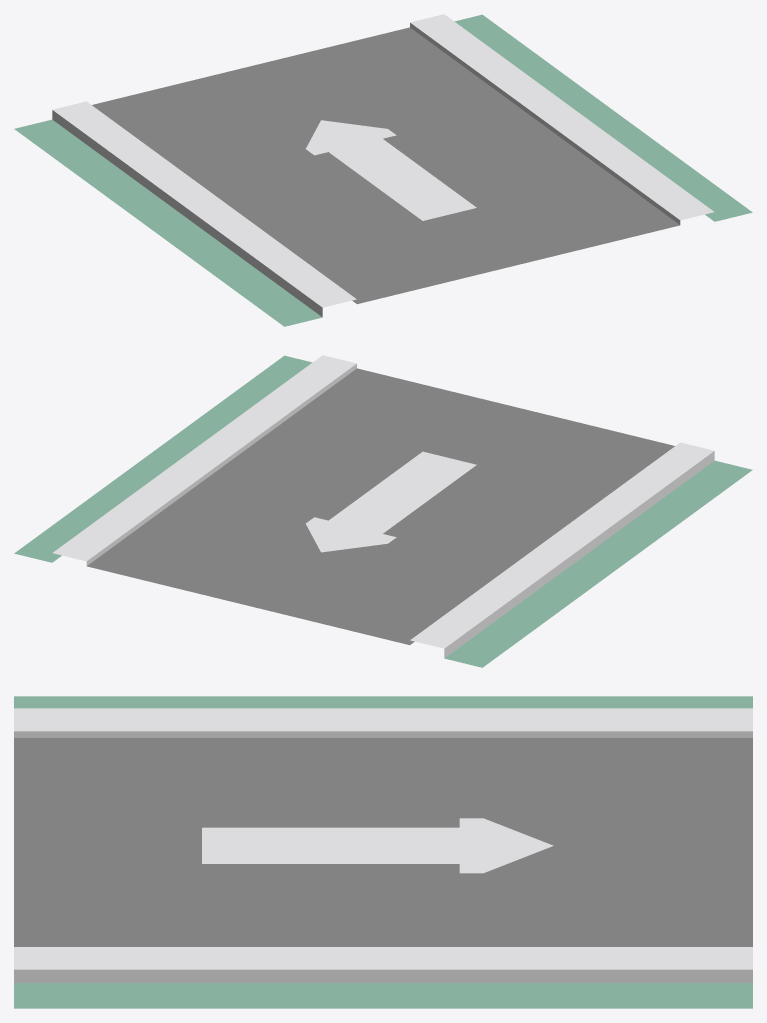
Rendered from roadStraightArrow.glb.
3 views of the same model, one above another, from view 1: azimuth 30°, elevation 25°; view 2: azimuth 150°, elevation 25°; view 3: azimuth 270°, elevation 25° (orthographic). The views are drawn at different scales.
Visible parts, largest first — view 1: roadStraightArrow(Clone); view 2: roadStraightArrow(Clone); view 3: roadStraightArrow(Clone).
Boxes of the visible parts, x1=… form: roadStraightArrow(Clone): x1=14, y1=14, x2=752, y2=326; roadStraightArrow(Clone): x1=14, y1=355, x2=752, y2=667; roadStraightArrow(Clone): x1=14, y1=696, x2=752, y2=1008.
Bounding box in the file's own units: 1 × 0.02 × 1.
